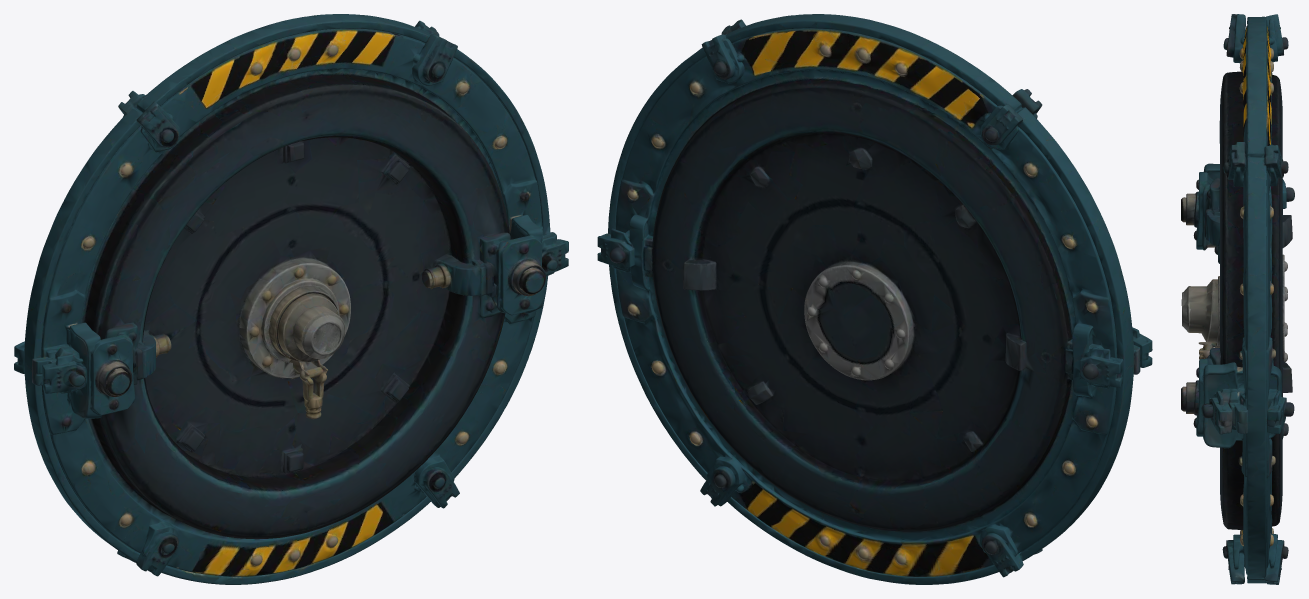
Rendered from hatch.glb.
3 views of the same model, side by side, from view 1: azimuth 30°, elevation 25°; view 2: azimuth 150°, elevation 25°; view 3: azimuth 270°, elevation 25° (orthographic). The views are drawn at different scales.
Bounding box in the file's own units: 1.9 × 1.9 × 0.3821.
Materials: 1 (1 with a texture image).
